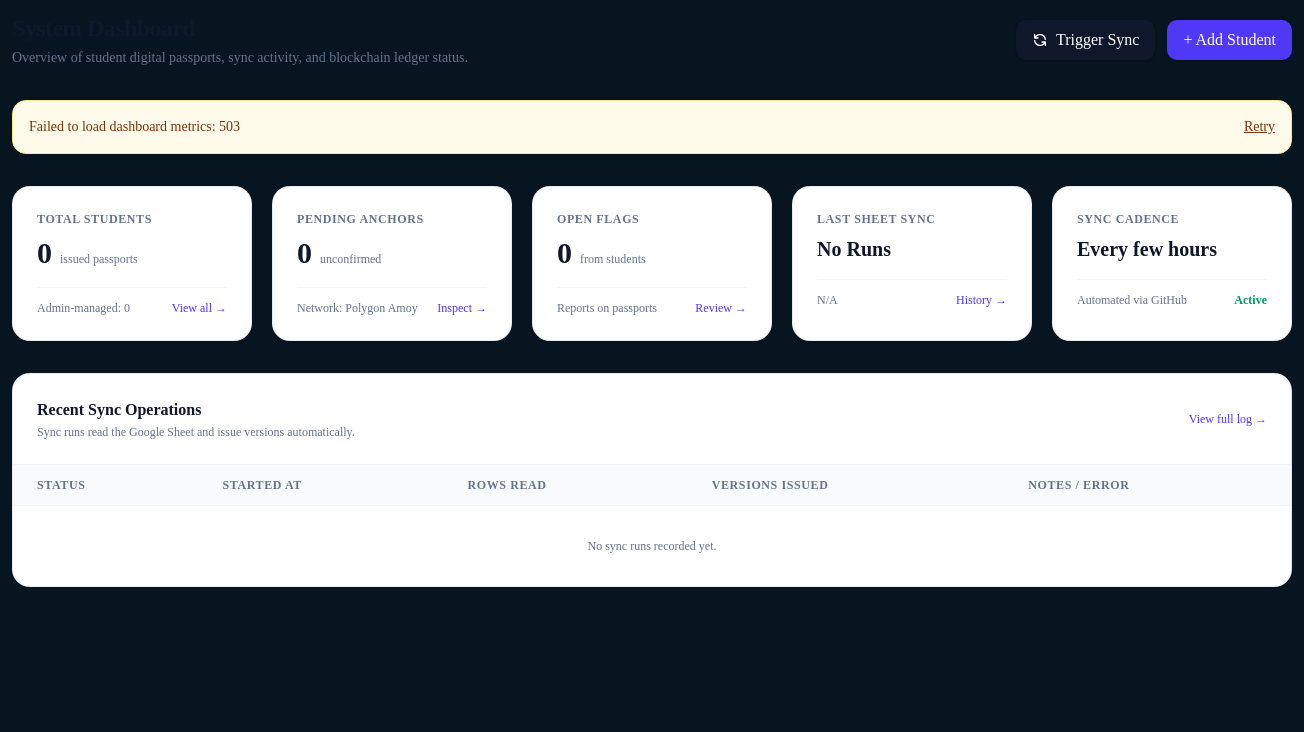
Test: admin dashboard › says so and retries when the numbers cannot be loaded
Check: the text "Failed to load dashboard metrics: 503" is shown, box top-left (29, 117), bottom-right (240, 137)
Click the button "Retry": (1259, 127) top-left (1244, 117), bottom-right (1275, 137)
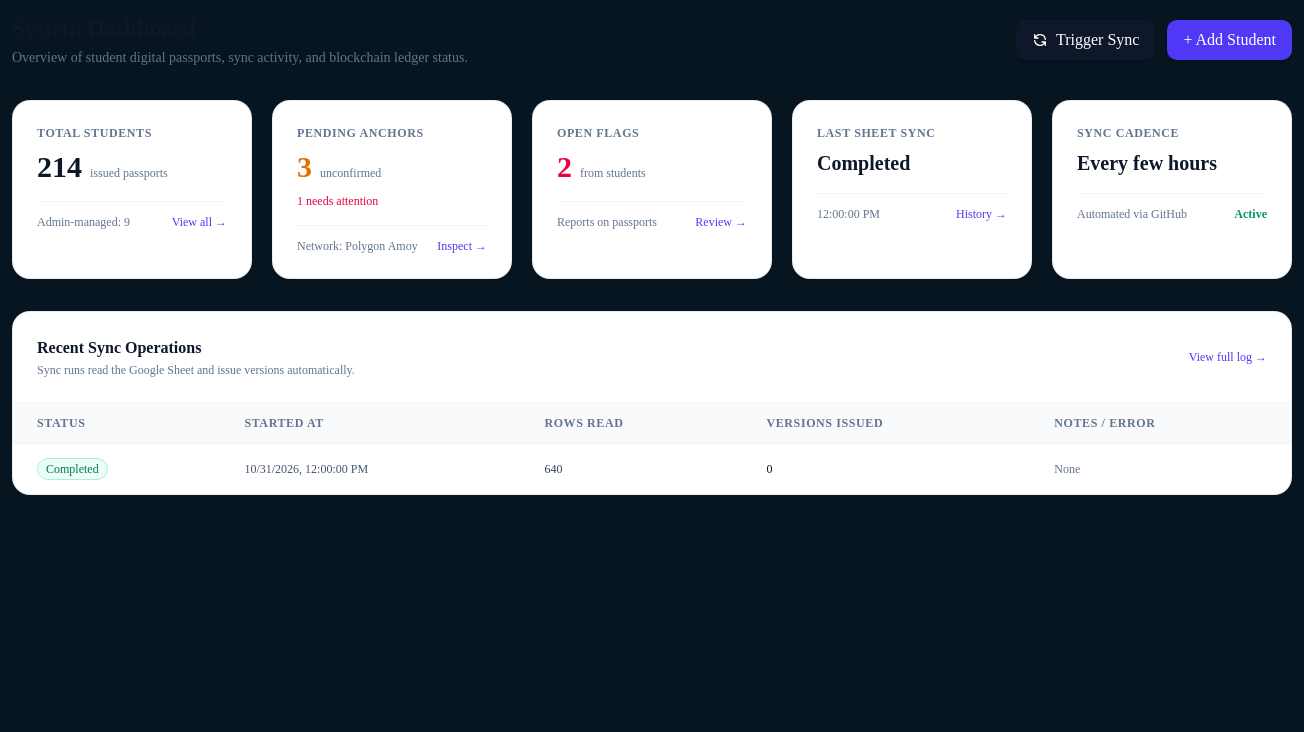
Check: the text "214" is shown, box top-left (37, 149), bottom-right (82, 185)
